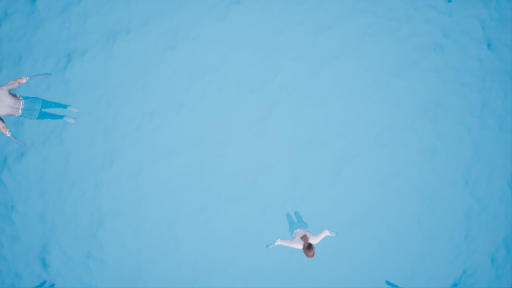person: (1, 70, 82, 146), (267, 209, 341, 261)
